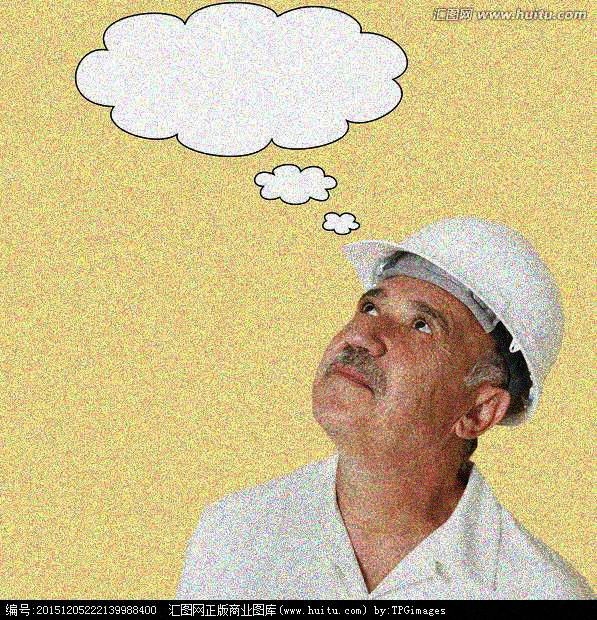helmet: (309, 216, 568, 441)
